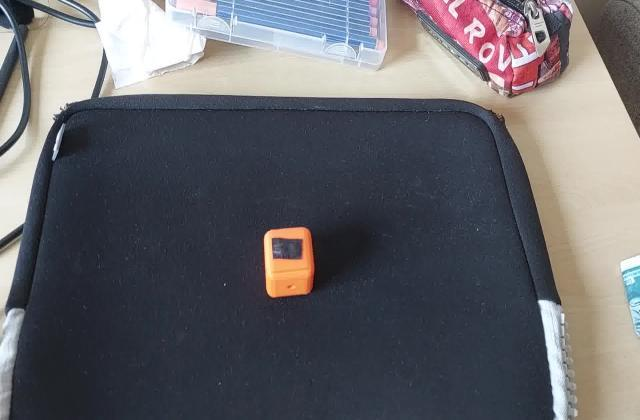black: (267, 234, 306, 263)
sticker: (261, 226, 318, 301)
